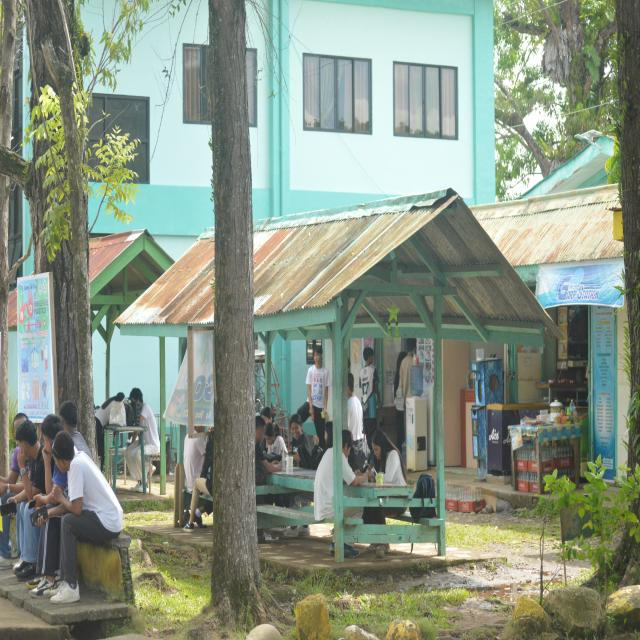person: (51, 431, 122, 603), (8, 420, 46, 579), (298, 346, 330, 447), (184, 435, 210, 530), (359, 347, 382, 449), (95, 392, 124, 470), (368, 430, 406, 485), (130, 388, 159, 456), (58, 401, 91, 457), (314, 448, 334, 520), (0, 516, 13, 567)
